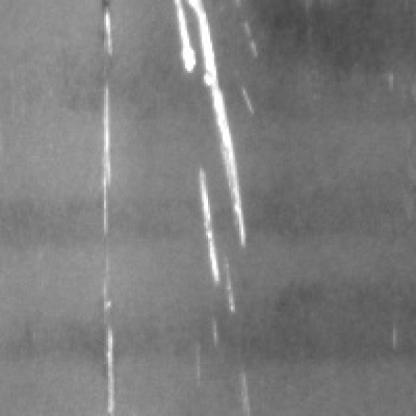scratches: (171, 0, 264, 256), (98, 0, 129, 406), (187, 158, 243, 310)
